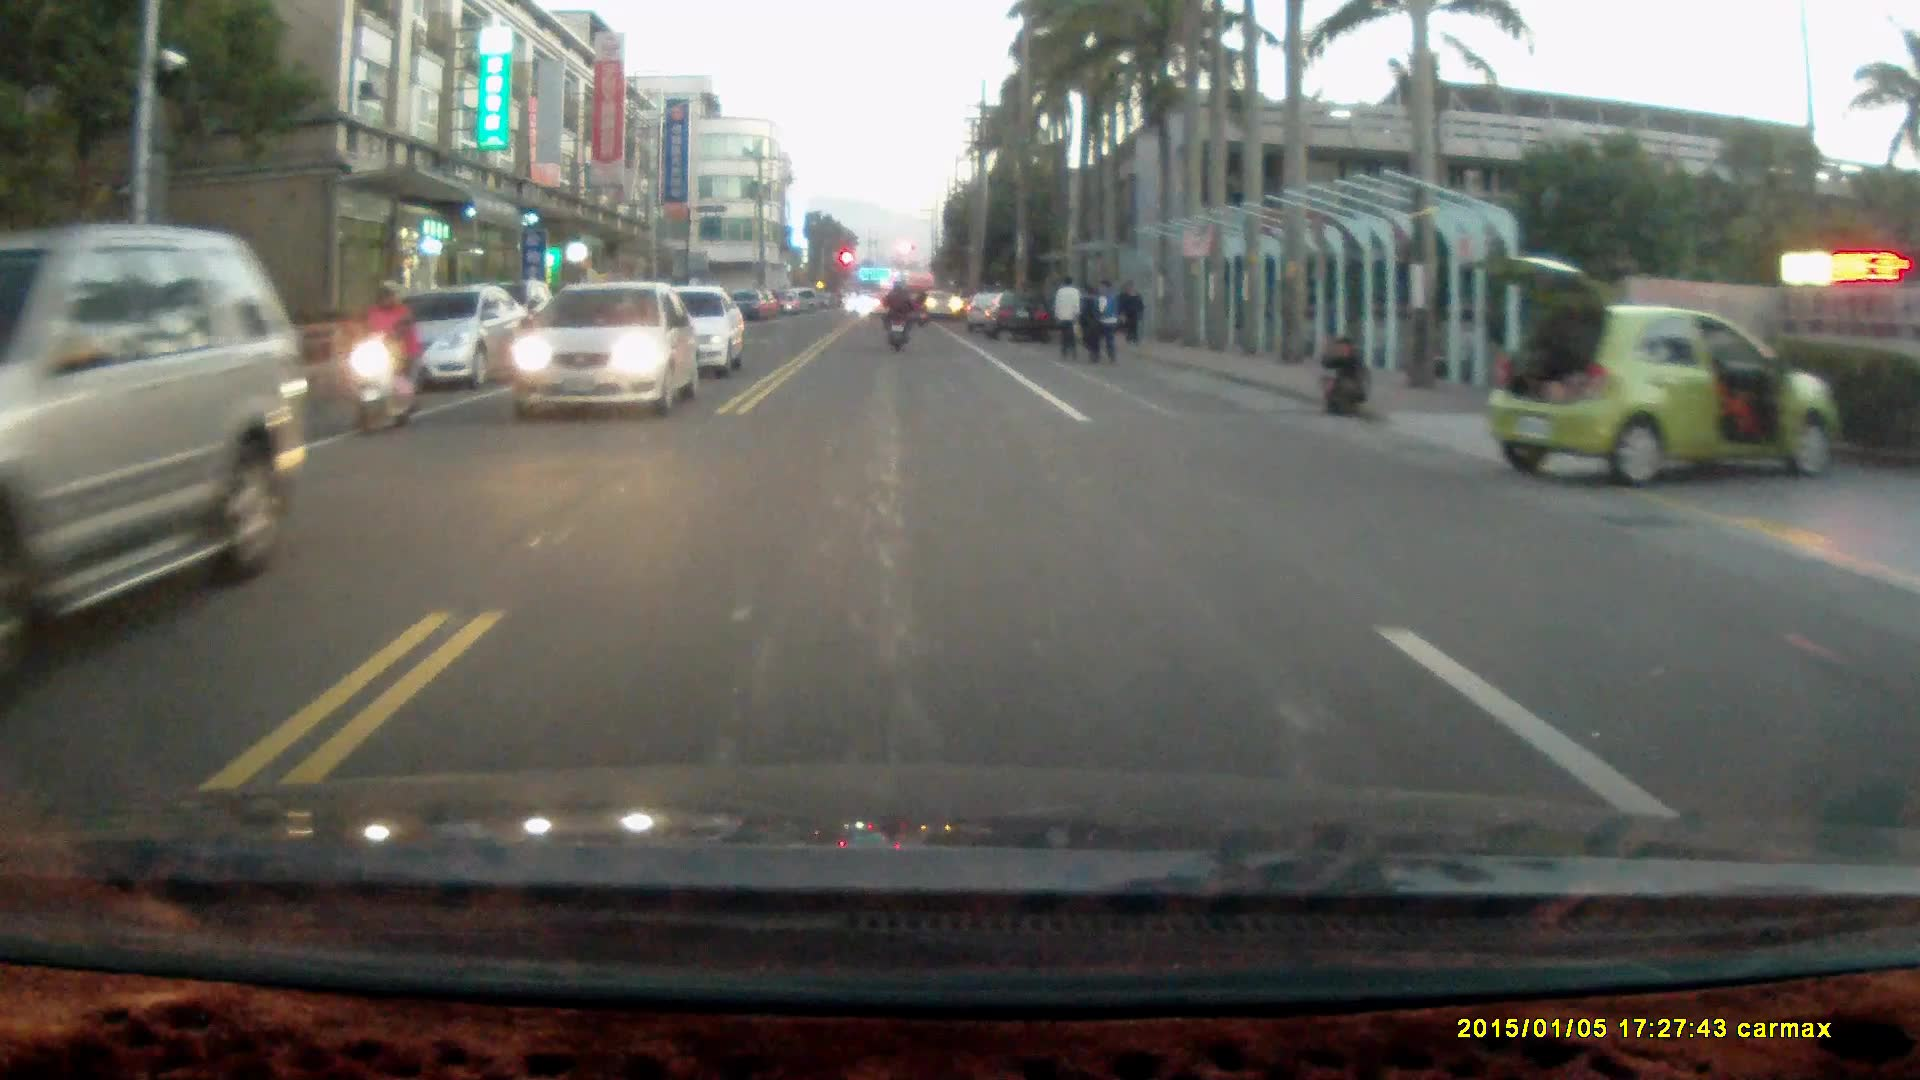pedestrian: (1313, 333, 1371, 419), (1082, 276, 1123, 366), (1052, 274, 1081, 364), (1075, 284, 1104, 369), (1117, 280, 1144, 344)
rider: (353, 281, 427, 438), (879, 278, 914, 355)
vehicle: (1, 228, 310, 701), (1470, 255, 1835, 491), (508, 281, 701, 424), (378, 286, 528, 396), (640, 284, 745, 382), (977, 291, 1051, 341)
